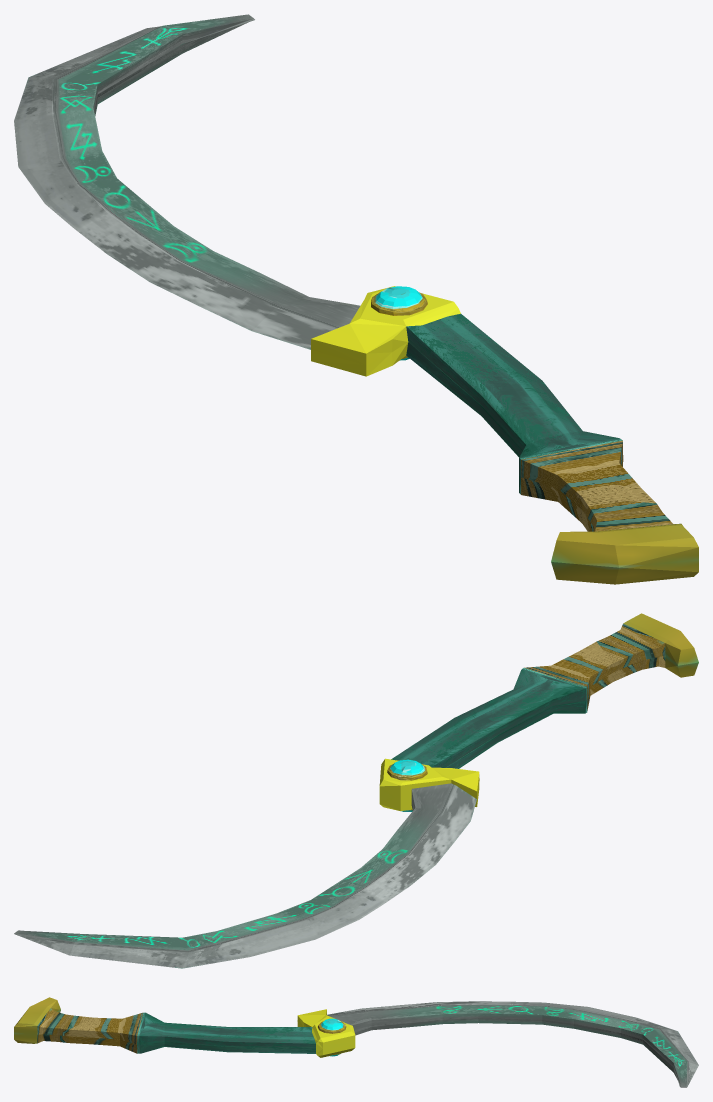
File: ari sword.FBX
3 renders of one model, top to bottom at view 1: azimuth 30°, elevation 25°; view 2: azimuth 150°, elevation 25°; view 3: azimuth 270°, elevation 25°, orthographic. The views are drawn at different scales.
Parts seen in each view (by area): view 1: Box003; view 2: Box003; view 3: Box003.
Part boxes in pixels (x1,y1,x2,y2): Box003: (14, 14, 698, 584); Box003: (14, 613, 698, 968); Box003: (14, 997, 698, 1087).
Bounding box in the file's own units: 21.43 × 3.65 × 72.16.
1 material, 1 textured.
